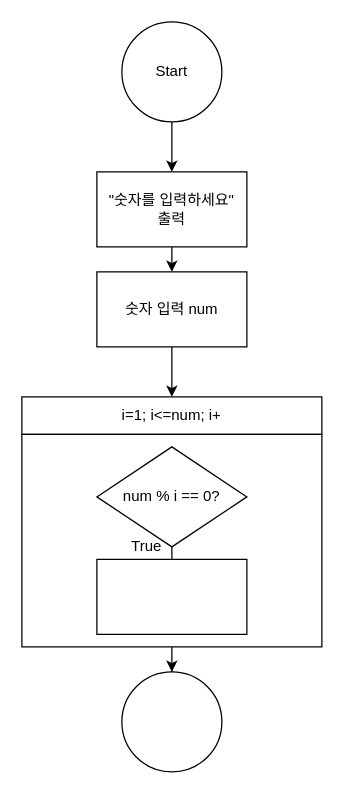
The diagram is 344 pixels wide and 794 high, and some of its shapes have lost their labels. The centre of each missing label's shape, as x and y in pixels:
"End" goes at point 171,721.
"i 출력" goes at point 171,596.
